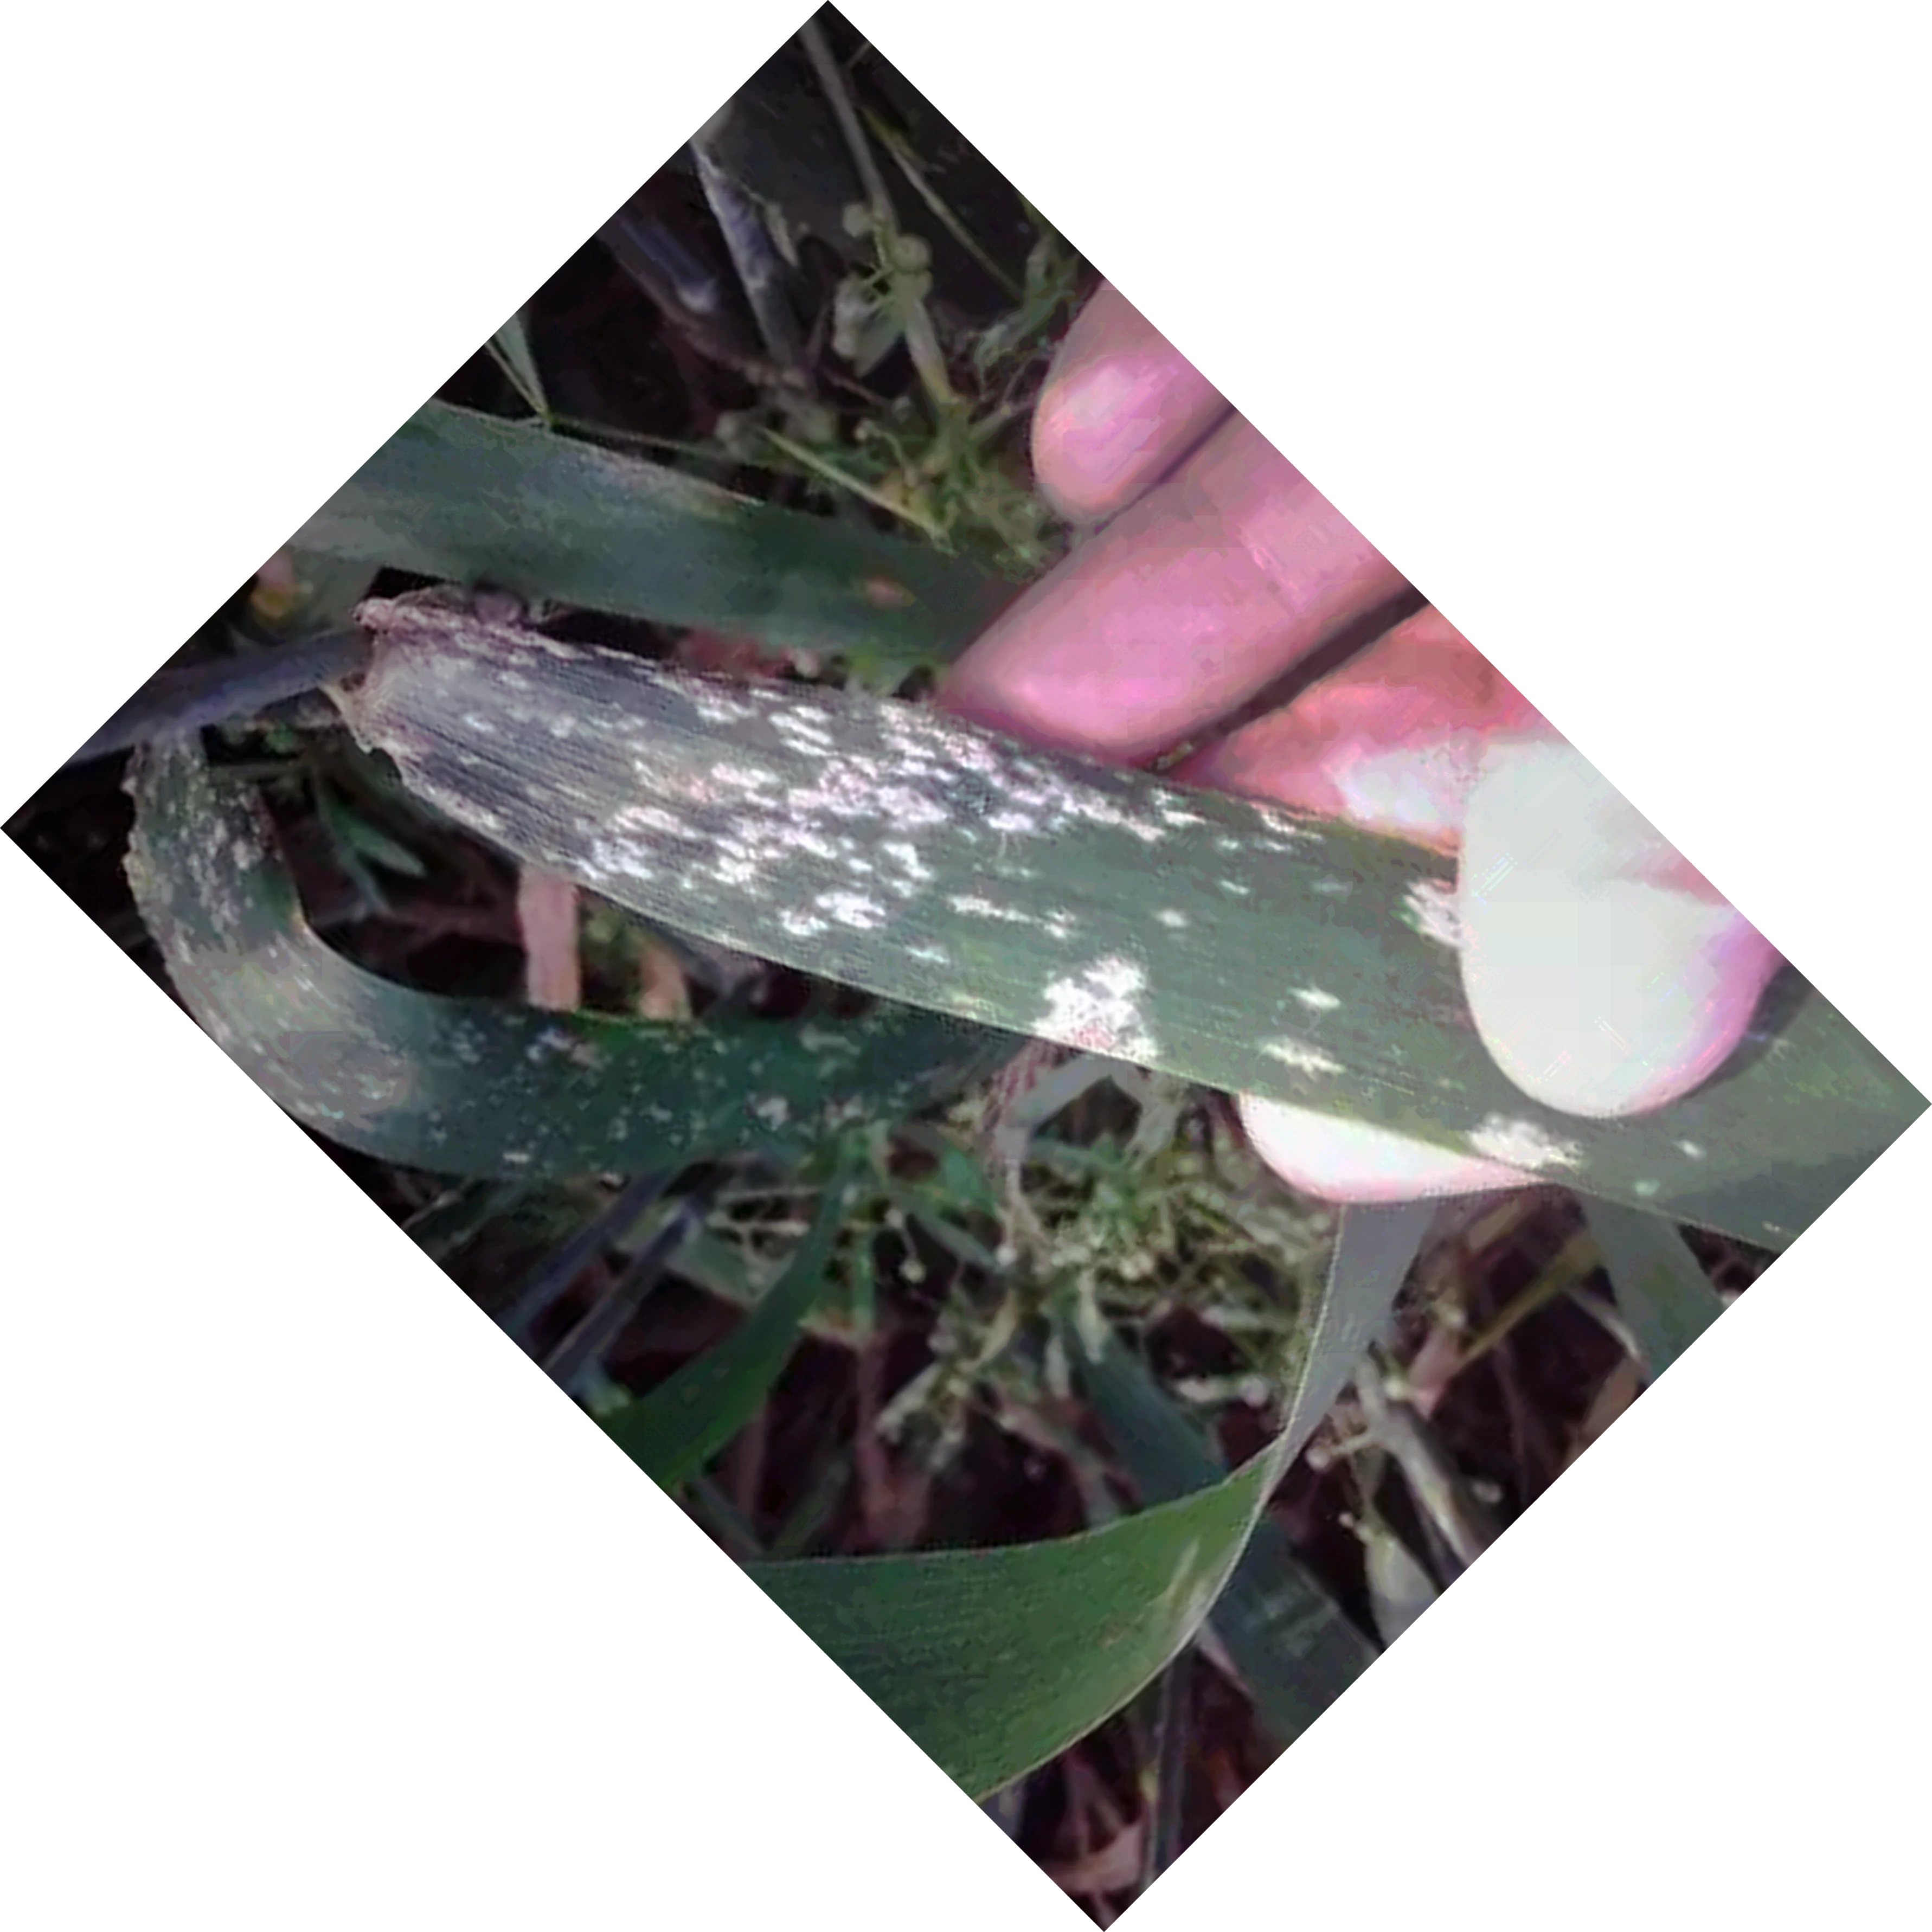Powdery Mildew: (518, 642, 1398, 1115)
